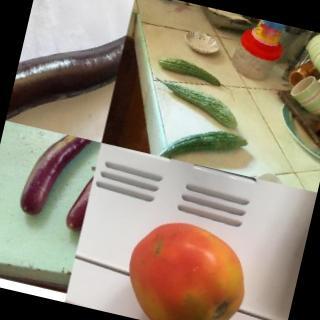Tomat: (119, 206, 262, 320)
